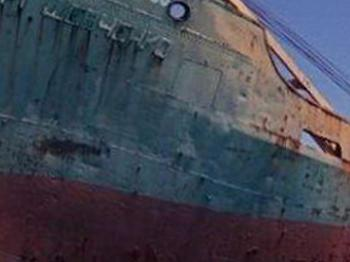rust: (268, 85, 348, 166), (28, 132, 119, 164)
